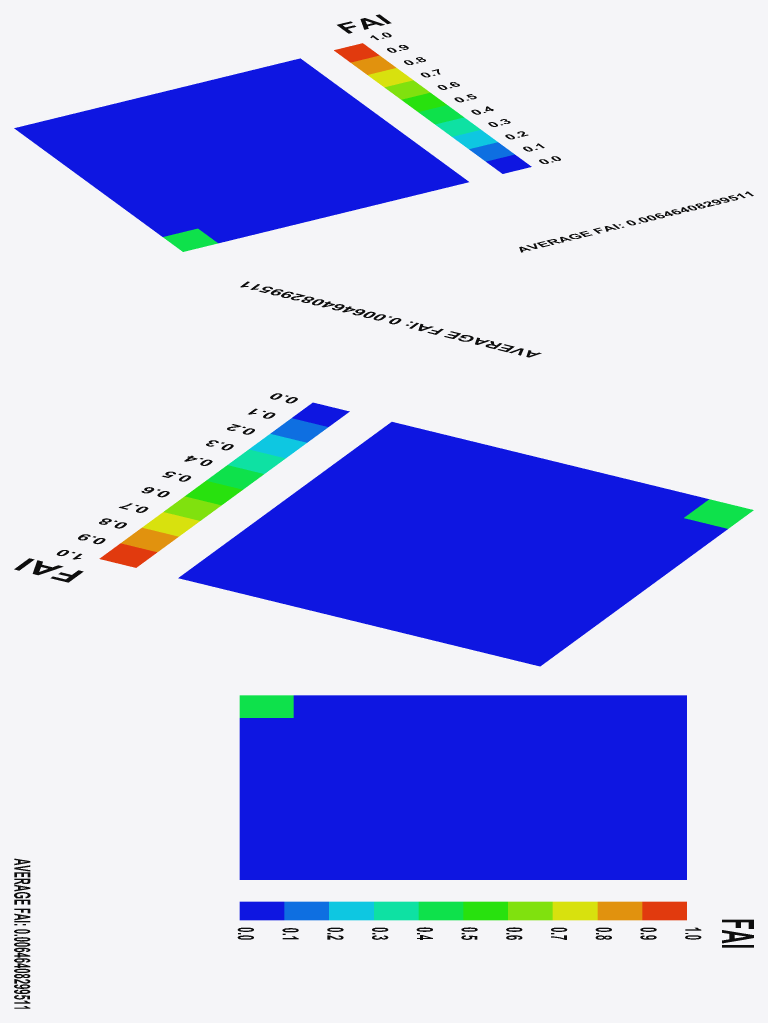
Rendered from example1_1_fai.dae.
The picture shows the model from 3 angles, top to bottom: view 1: azimuth 30°, elevation 25°; view 2: azimuth 150°, elevation 25°; view 3: azimuth 270°, elevation 25°; orthographic projection. The views are drawn at different scales.
Visible parts, largest first — view 1: node0 (×13); view 2: node0 (×13); view 3: node0 (×13).
Boxes of the visible parts, x1,y1,x2,y2 form: node0 (×13): (14,14,753,252); node0 (×13): (14,281,753,666); node0 (×13): (14,695,753,1008).
Bounding box in the file's own units: 2754 × 2746 × 1e-06.
